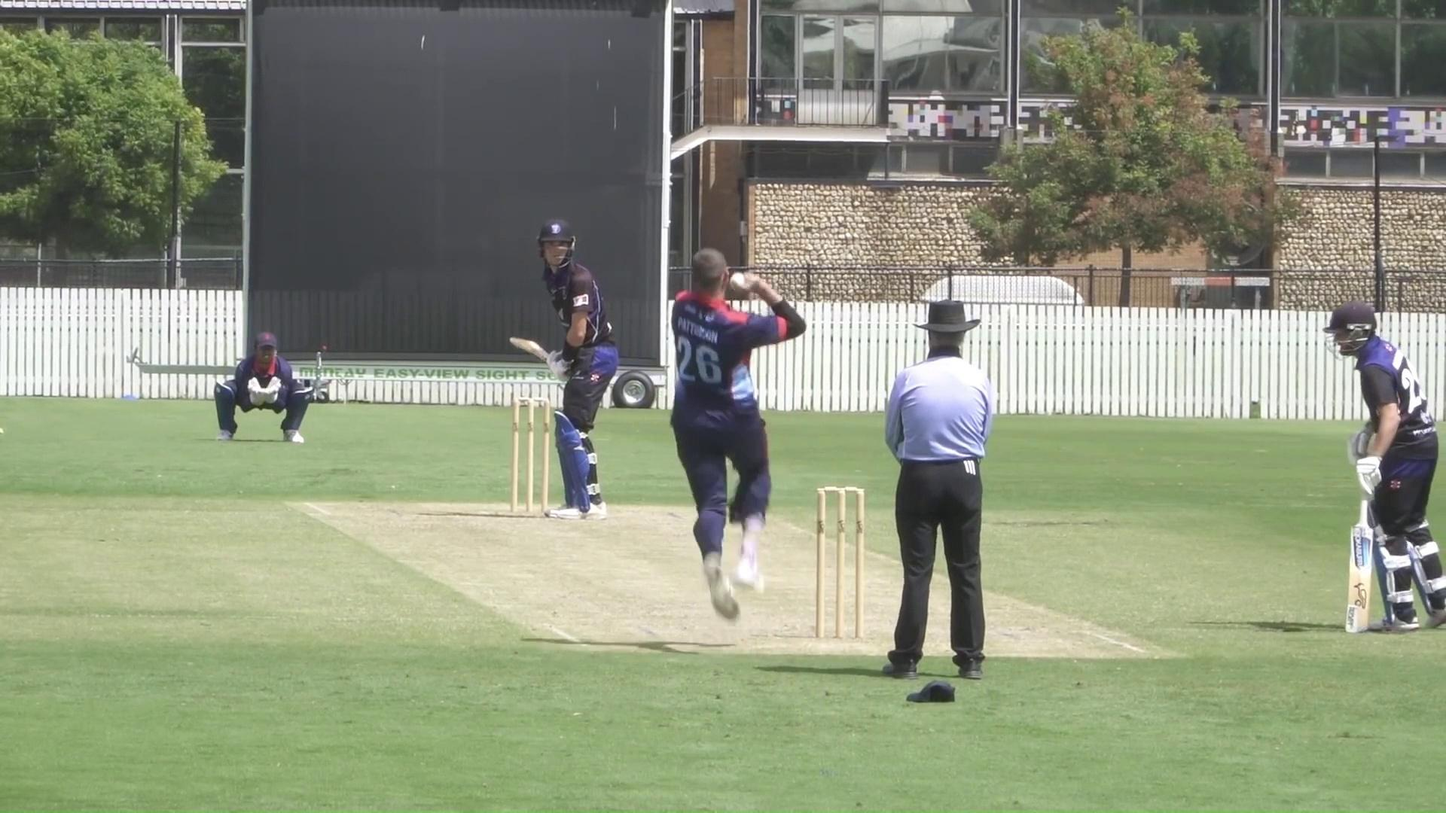ball: (728, 271, 751, 293)
